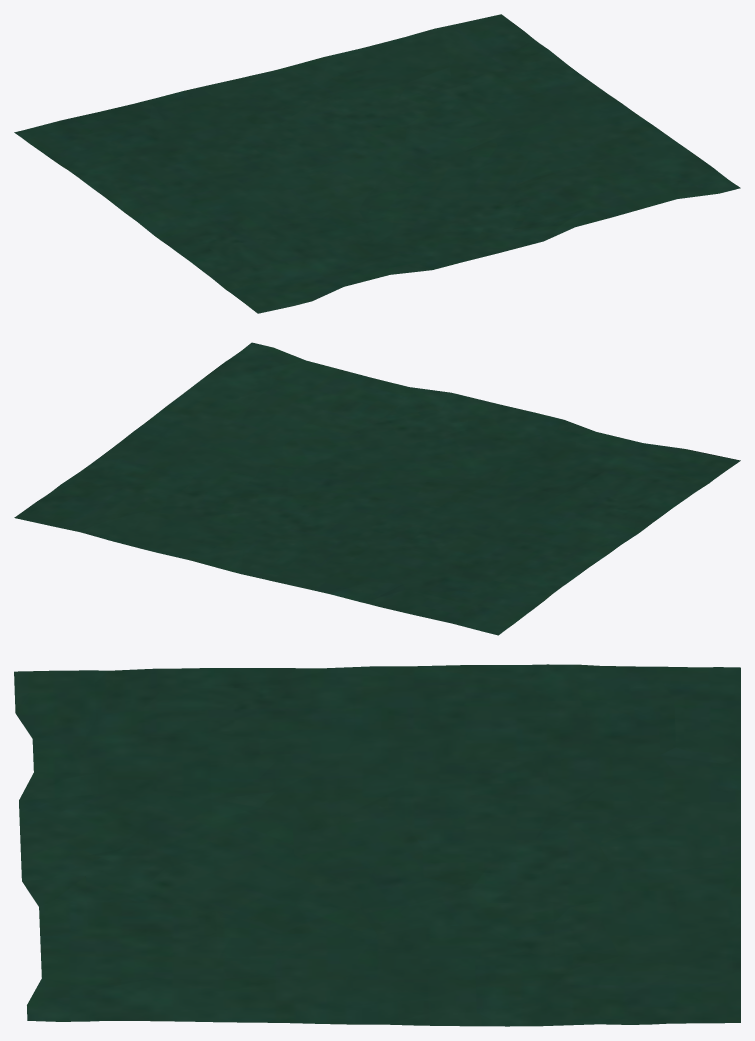
3 renders of one model, top to bottom at view 1: azimuth 30°, elevation 25°; view 2: azimuth 150°, elevation 25°; view 3: azimuth 270°, elevation 25°, orthographic. The views are drawn at different scales.
Size of the model in its own units: 52.22 by 0.7392 by 45.26.
2 materials, 2 textured.
